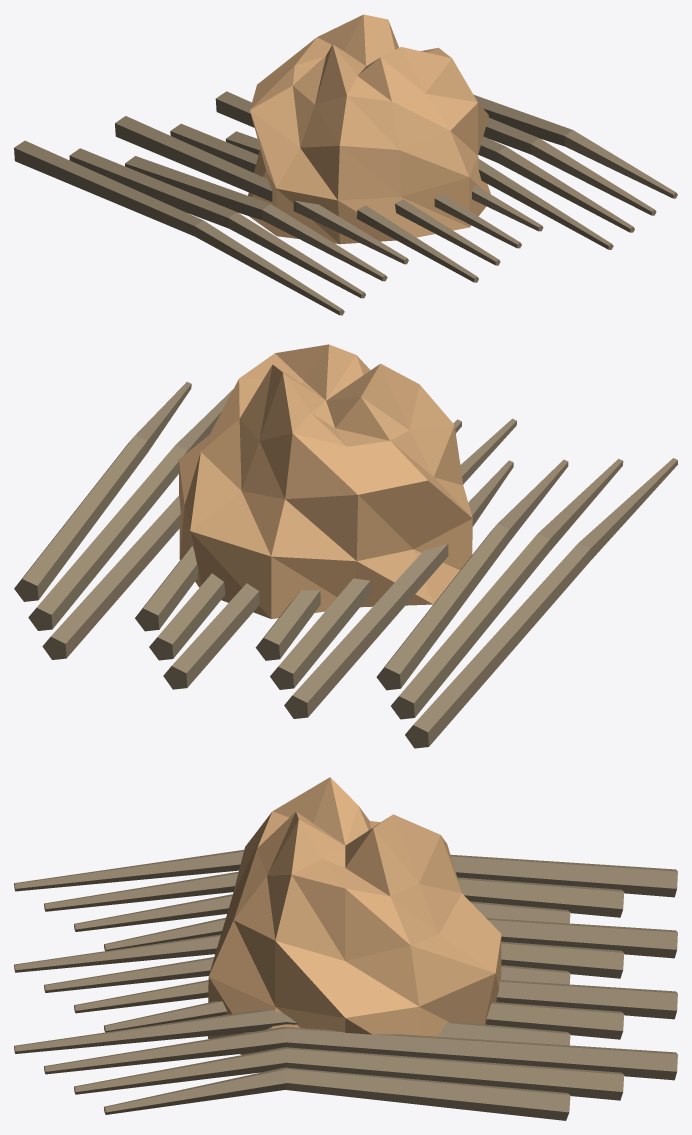
Rendered from desert-canyons-and-oases-flash-flood-debris-be377aa9__20967.glb.
3 renders of one model, top to bottom at view 1: azimuth 30°, elevation 25°; view 2: azimuth 150°, elevation 25°; view 3: azimuth 270°, elevation 25°, orthographic. The views are drawn at different scales.
Visible parts, largest first — view 1: flash-flood-debris; view 2: flash-flood-debris; view 3: flash-flood-debris.
Boxes of the visible parts, left/top/right/bottom form: flash-flood-debris: left=14, top=14, right=677, bottom=315; flash-flood-debris: left=14, top=344, right=677, bottom=748; flash-flood-debris: left=14, top=777, right=677, bottom=1120.
Bounding box in the file's own units: 2.07 × 0.8136 × 2.21.
